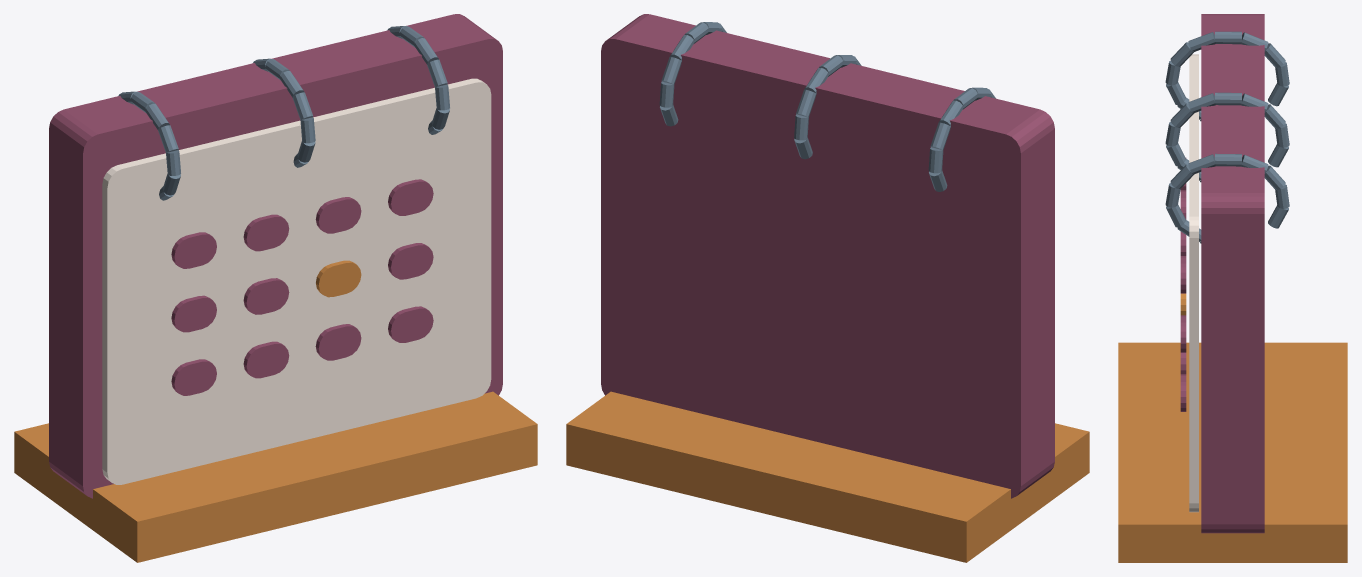
File: deskcalendar.glb
The picture shows the model from 3 angles, left to right: view 1: azimuth 30°, elevation 25°; view 2: azimuth 150°, elevation 25°; view 3: azimuth 270°, elevation 25°; orthographic projection. The views are drawn at different scales.
Parts seen in each view (by area): view 1: calendar page, binding board, rear foot, day 1, day 9, day 4, marked date, day 3, day 5, day 11, day 0, day 7 (+3 smaller); view 2: binding board, rear foot; view 3: rear foot, binding board, calendar page, loop16, loop06, loop26, loop15, loop25, loop05, loop04, loop14, loop24 (+3 smaller).
Part boxes in pixels (box(x1,y1,x2,y2)): calendar page: box(102, 78, 491, 484); binding board: box(49, 14, 502, 498); rear foot: box(14, 391, 537, 562); day 1: box(243, 214, 289, 251); day 9: box(243, 341, 289, 378); day 4: box(171, 295, 216, 332); marked date: box(316, 260, 361, 297); day 3: box(388, 179, 433, 215); day 5: box(243, 278, 289, 314); day 11: box(388, 306, 433, 342); day 0: box(171, 232, 216, 268); day 7: box(388, 243, 433, 279); binding board: box(601, 14, 1054, 498); rear foot: box(566, 391, 1089, 562); rear foot: box(1118, 342, 1347, 562); binding board: box(1201, 14, 1264, 533); calendar page: box(1189, 54, 1198, 512); loop16: box(1215, 92, 1241, 105); loop06: box(1215, 31, 1241, 44); loop26: box(1215, 153, 1241, 166); loop15: box(1188, 93, 1215, 113); loop25: box(1188, 154, 1215, 174); loop05: box(1188, 32, 1215, 52); loop04: box(1170, 42, 1193, 66); loop14: box(1170, 103, 1193, 127); loop24: box(1170, 164, 1193, 188).
Size of the model in its own units: 1.28 by 1.18 by 0.65.
